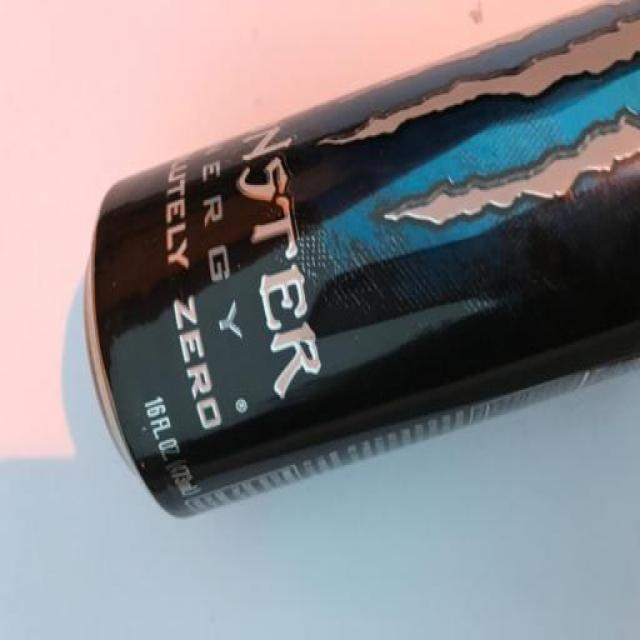metel: (58, 1, 640, 536)
